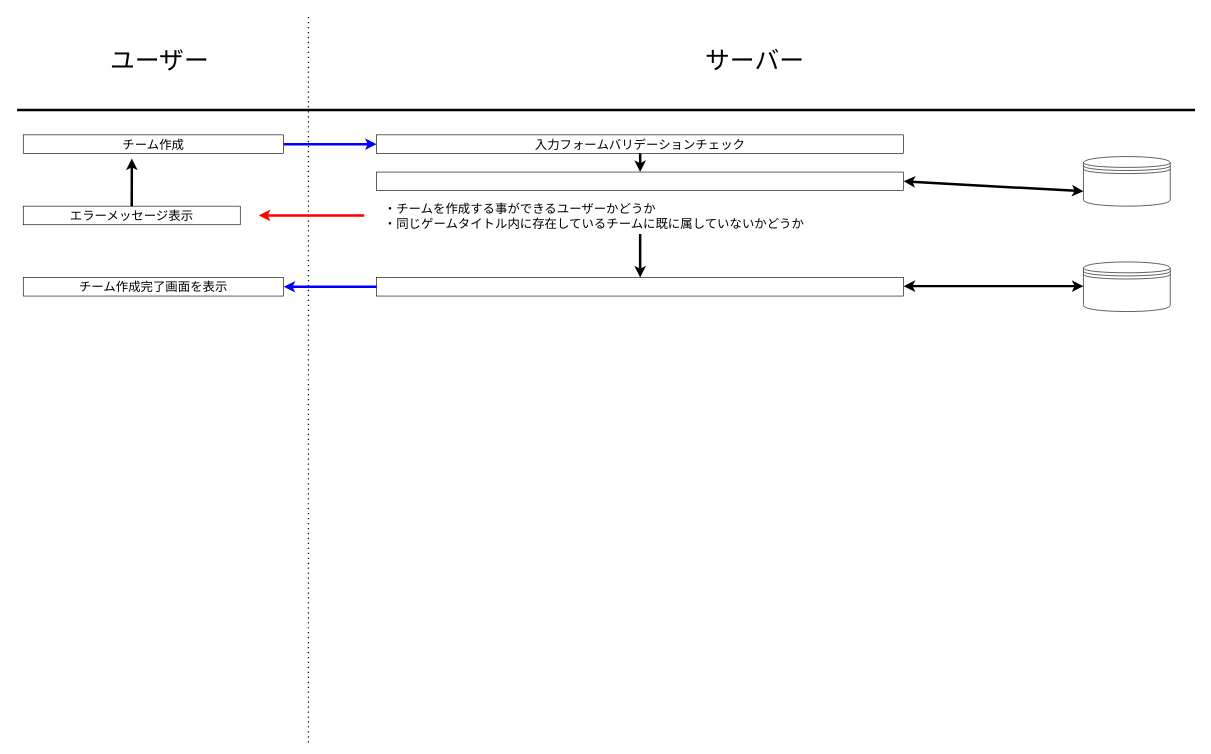
Image size: 1211x754. Some labels were removed from this diagram. The box of each missing label's shape, as (x1, y1, x2, y2) in pixels:
チームを新規作成: (376, 277, 904, 296)
チーム作成権限チェック: (376, 171, 904, 191)
